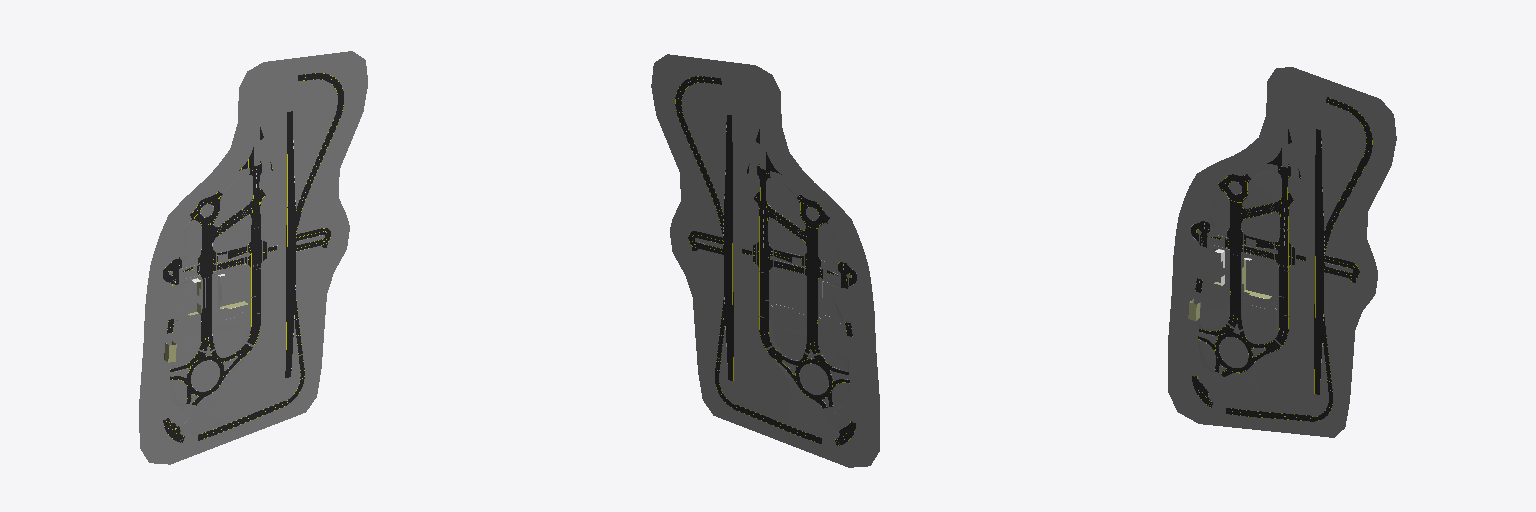
3 views of the same model, side by side, from view 1: azimuth 30°, elevation 25°; view 2: azimuth 150°, elevation 25°; view 3: azimuth 330°, elevation 25° (orthographic).
Visible parts, largest first — view 1: Mcity; view 2: Mcity; view 3: Mcity.
Part boxes in pixels (x1,y1,x2,y2): Mcity: (139, 51, 367, 464); Mcity: (651, 54, 879, 467); Mcity: (1168, 67, 1396, 437).
Bounding box in the file's own units: 2300 × 3642 × 76.2.
16 materials, 1 textured.